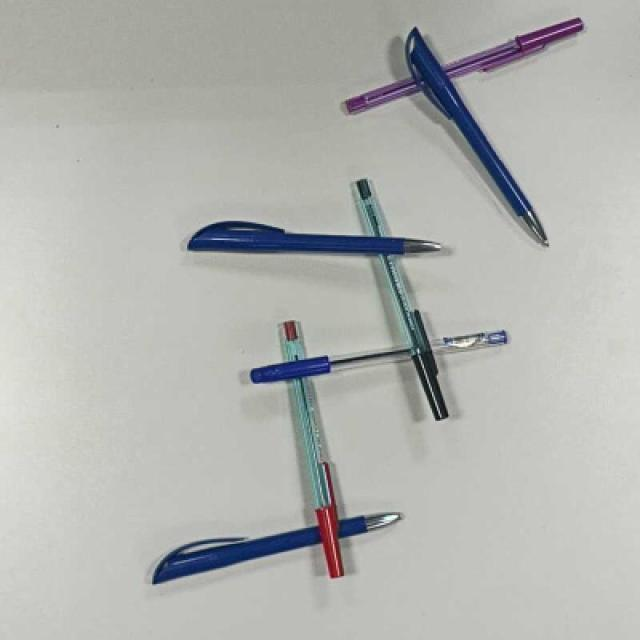caneta: (389, 27, 554, 260), (345, 14, 587, 122), (354, 175, 453, 422), (146, 492, 403, 585), (278, 319, 349, 579), (250, 330, 508, 387), (189, 220, 441, 255)
